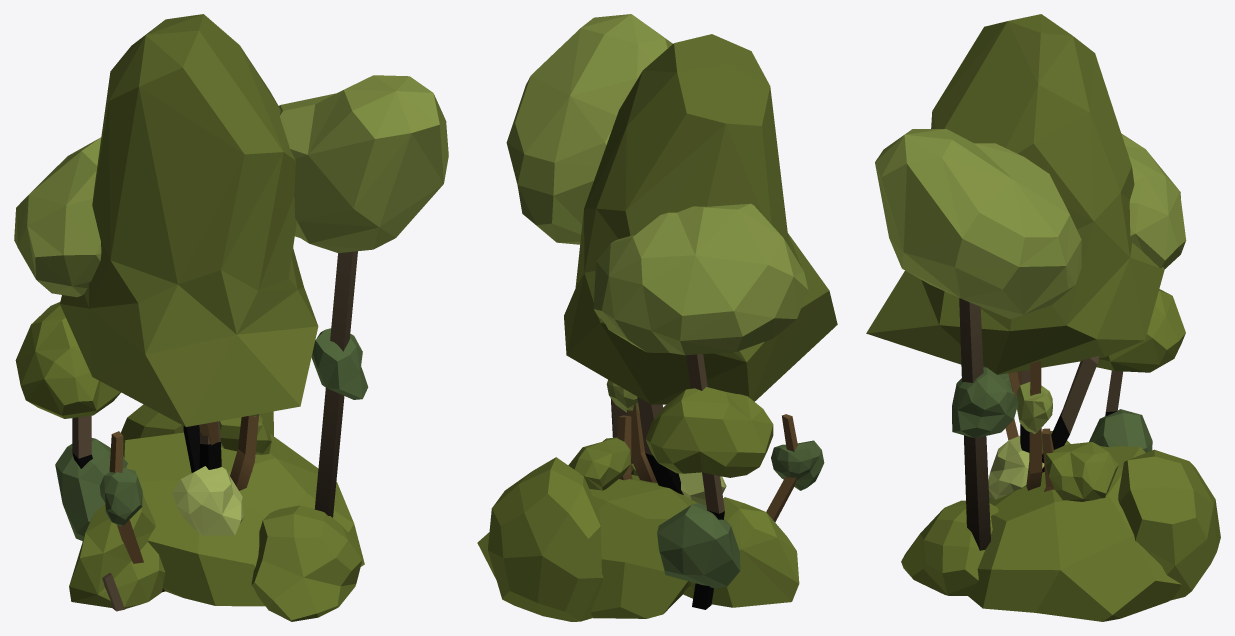
Rendered from EA03_Nature_Bush_01c.glb.
3 renders of one model, left to right at view 1: azimuth 30°, elevation 25°; view 2: azimuth 150°, elevation 25°; view 3: azimuth 270°, elevation 25°, orthographic. The views are drawn at different scales.
Parts seen in each view (by area): view 1: EA03_Nature_Bush_01c; view 2: EA03_Nature_Bush_01c; view 3: EA03_Nature_Bush_01c.
Part boxes in pixels (<box>): EA03_Nature_Bush_01c: <box>14,14,448,621</box>; EA03_Nature_Bush_01c: <box>477,14,837,621</box>; EA03_Nature_Bush_01c: <box>866,14,1220,621</box>.
Bounding box in the file's own units: 2.62 × 3.96 × 2.45.
Materials: 1 (1 with a texture image).
